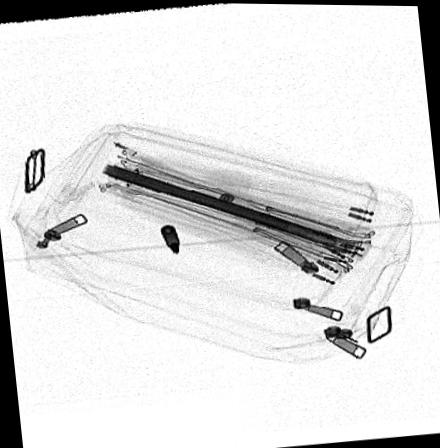Bullet: (160, 224, 179, 253)
